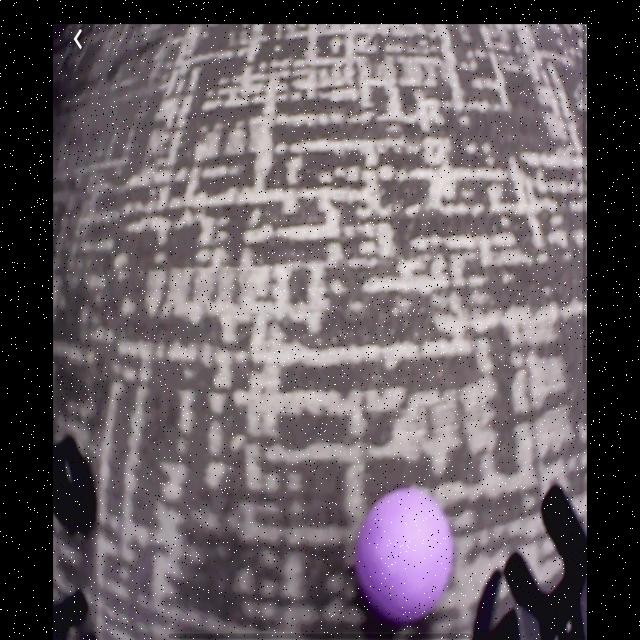ball: (355, 490, 454, 624)
